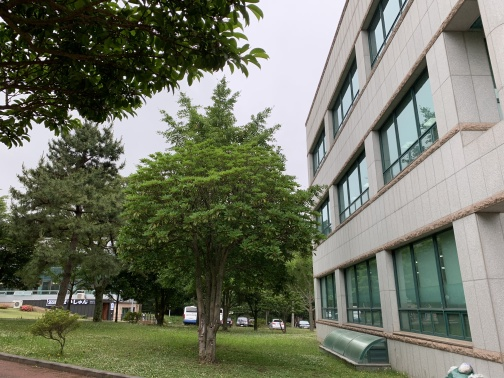Second Library: (293, 4, 501, 375)
